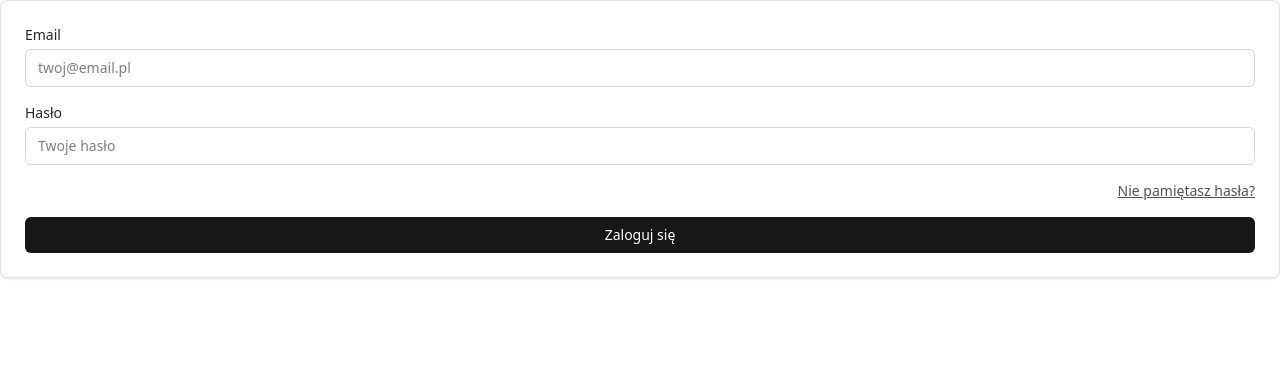
Scenario: LoginForm › pokazuje resend button przy EMAIL_NOT_CONFIRMED
Type "a@b.com" into the field labelled "Email" at (640, 68), box 25,49 -> 1255,87
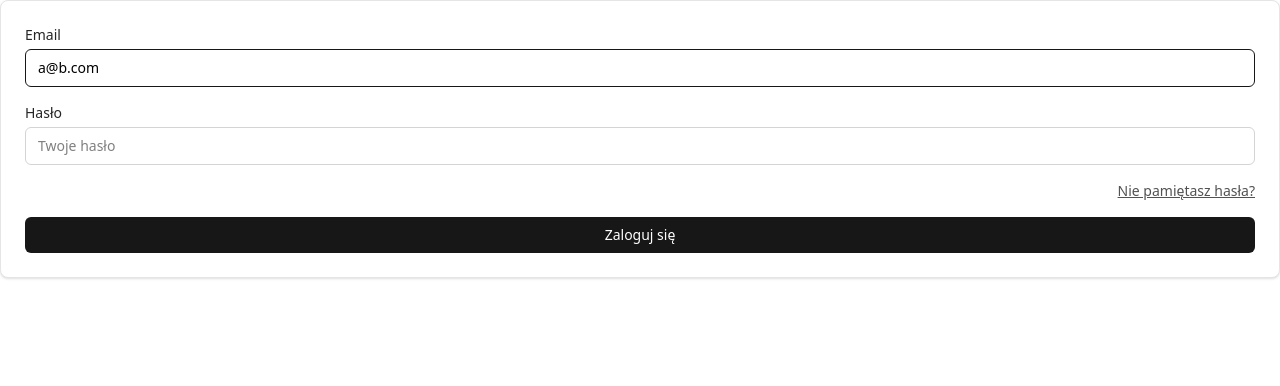
Type "pass" into the password field labelled "Hasło" at (640, 146), box 25,127 -> 1255,165
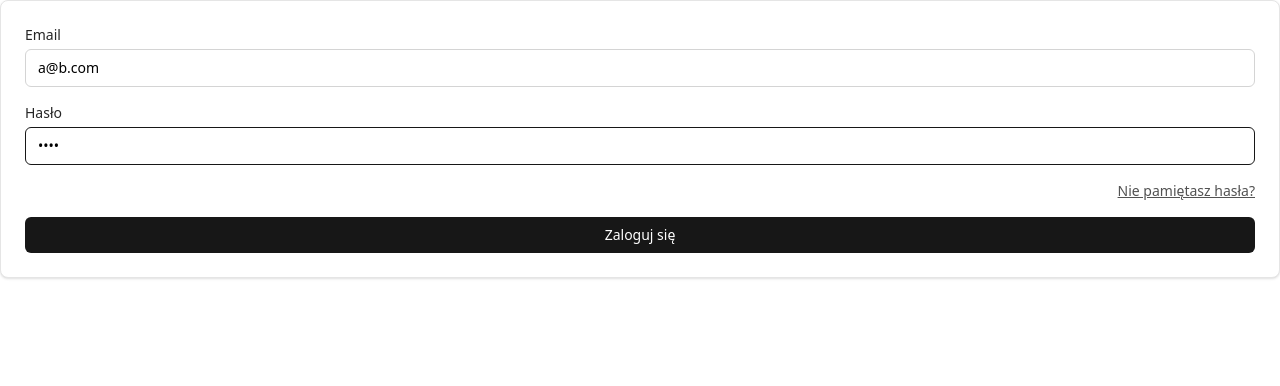
Click the button "Zaloguj się" at (640, 235), box 25,217 -> 1255,253
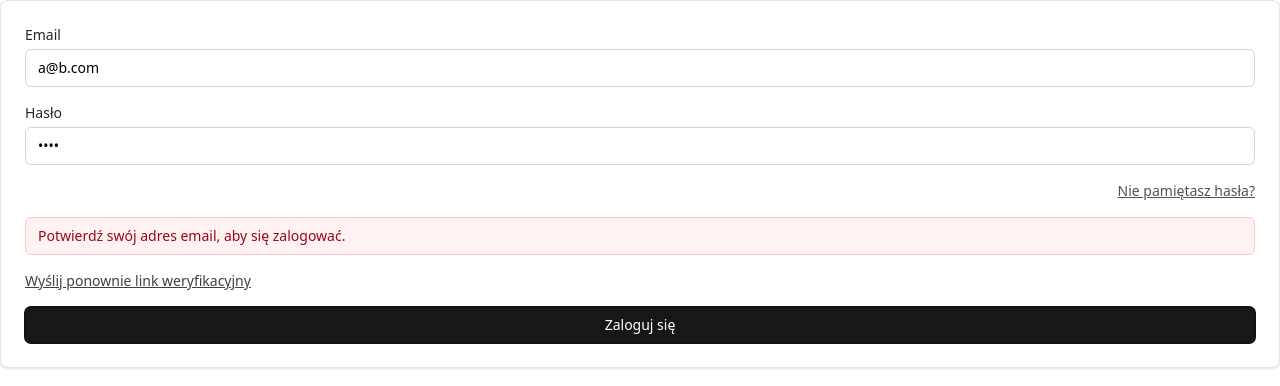
expect the button "Wyślij ponownie link weryfikacyjny" is shown: met, box 25,271 -> 251,291
